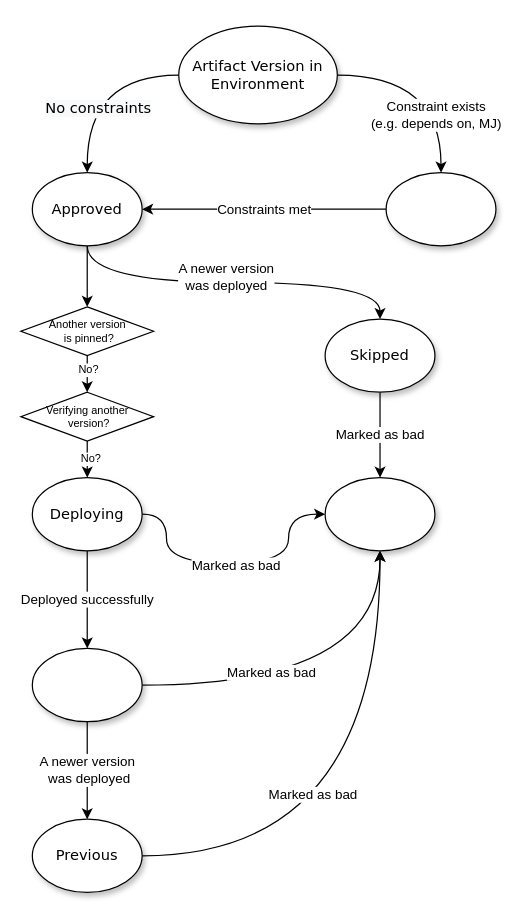
Some shapes in this 526 by 922 pixel diagram are drawn without their labels. Here are the shapes that lost their labels. From the top down, the centre of each, then its label:
pixel 441 210: Pending
pixel 380 515: Vetoed
pixel 87 686: Current
